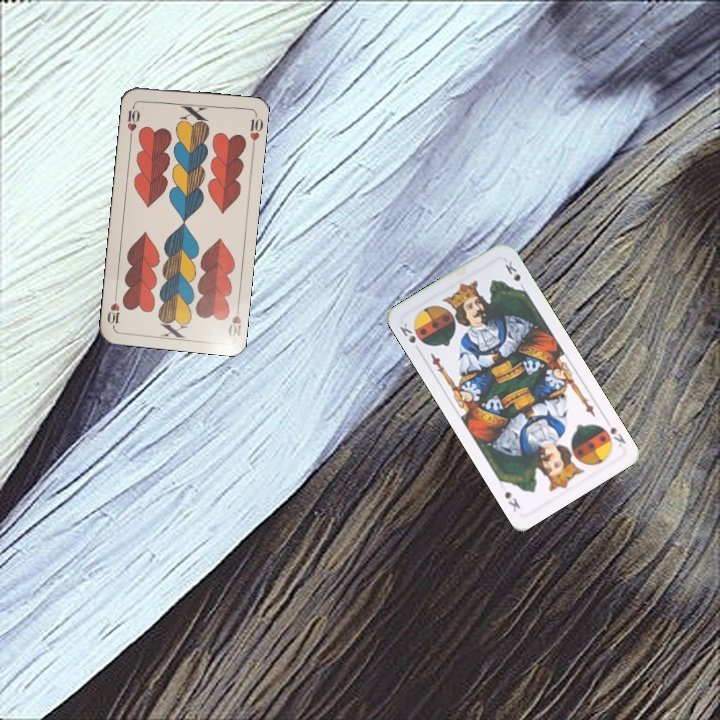H10: (123, 100, 143, 141), (224, 300, 244, 339)
SK: (596, 414, 628, 450), (395, 319, 418, 346)
